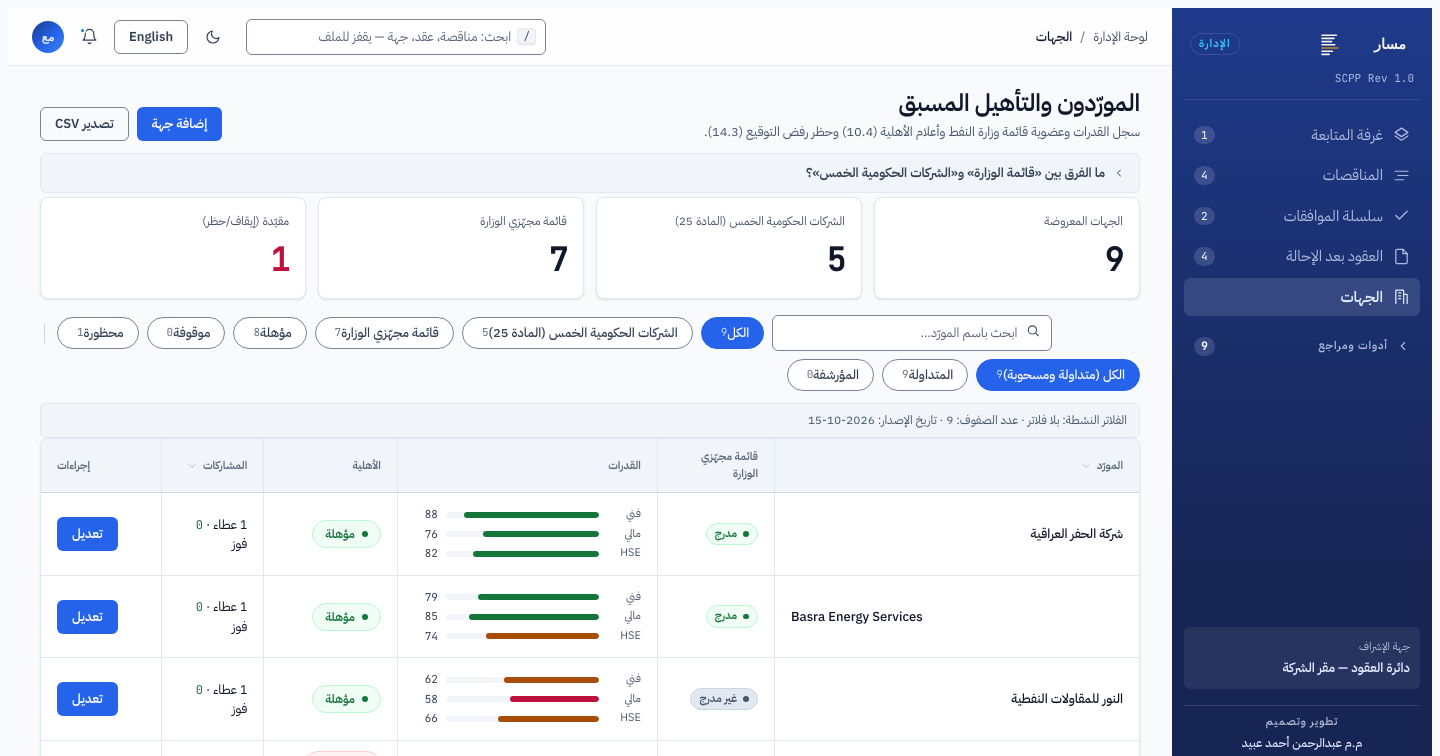
#/admin/fields and #/admin/entities — the archive as a URL dimension (request 7) › stamps the entity archive once it REALLY narrows, and dismissing it deletes the parameter
The width and height of the screenshot is (1440, 756).
Click the button "المؤرشفة 0": [830, 375] box left=787, top=359, right=874, bottom=391
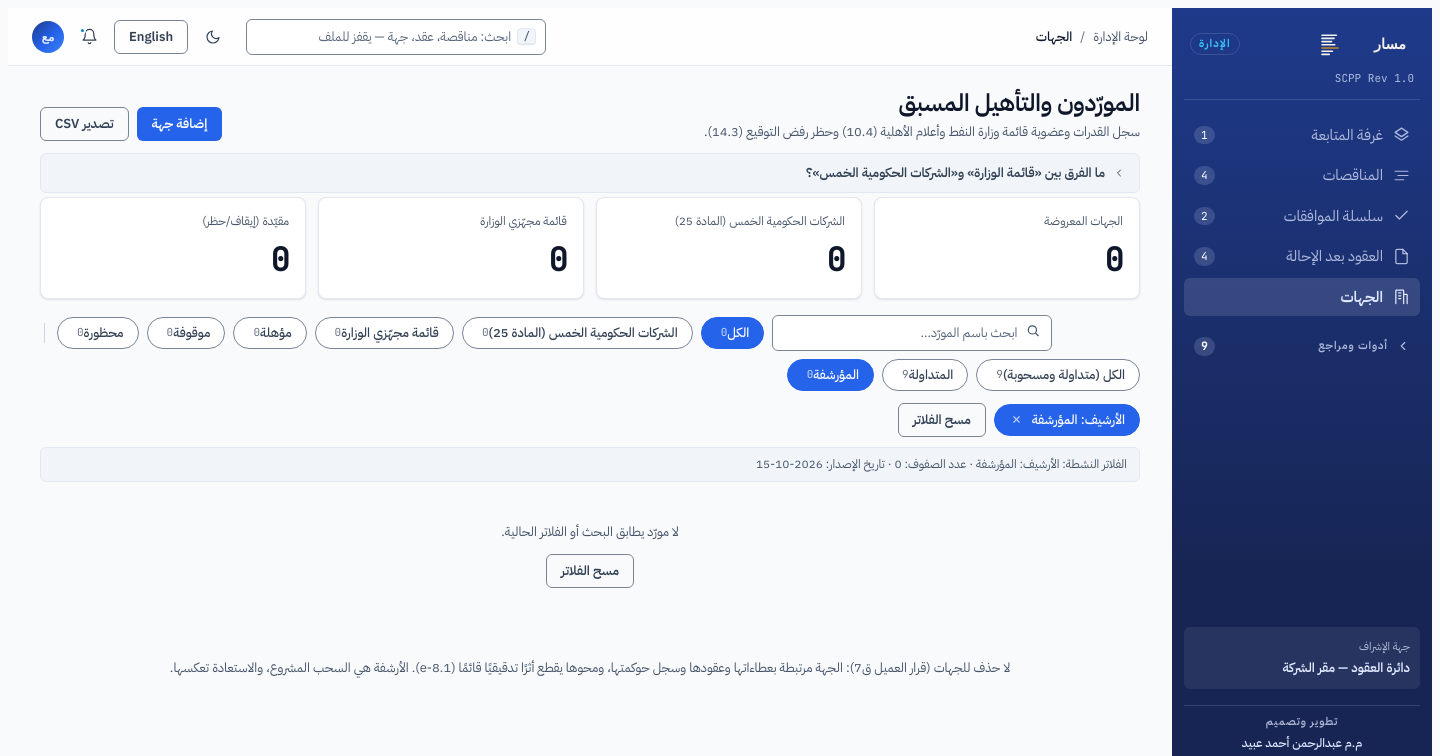
Expected: the text with class "reg-stamp" shows "الأرشيف: المؤرشفة", left=756, top=455, right=1127, bottom=473
Click the button named "أزل المرشّح: الأرشيف: المؤرشفة": [1017, 420] box left=1009, top=412, right=1025, bottom=428
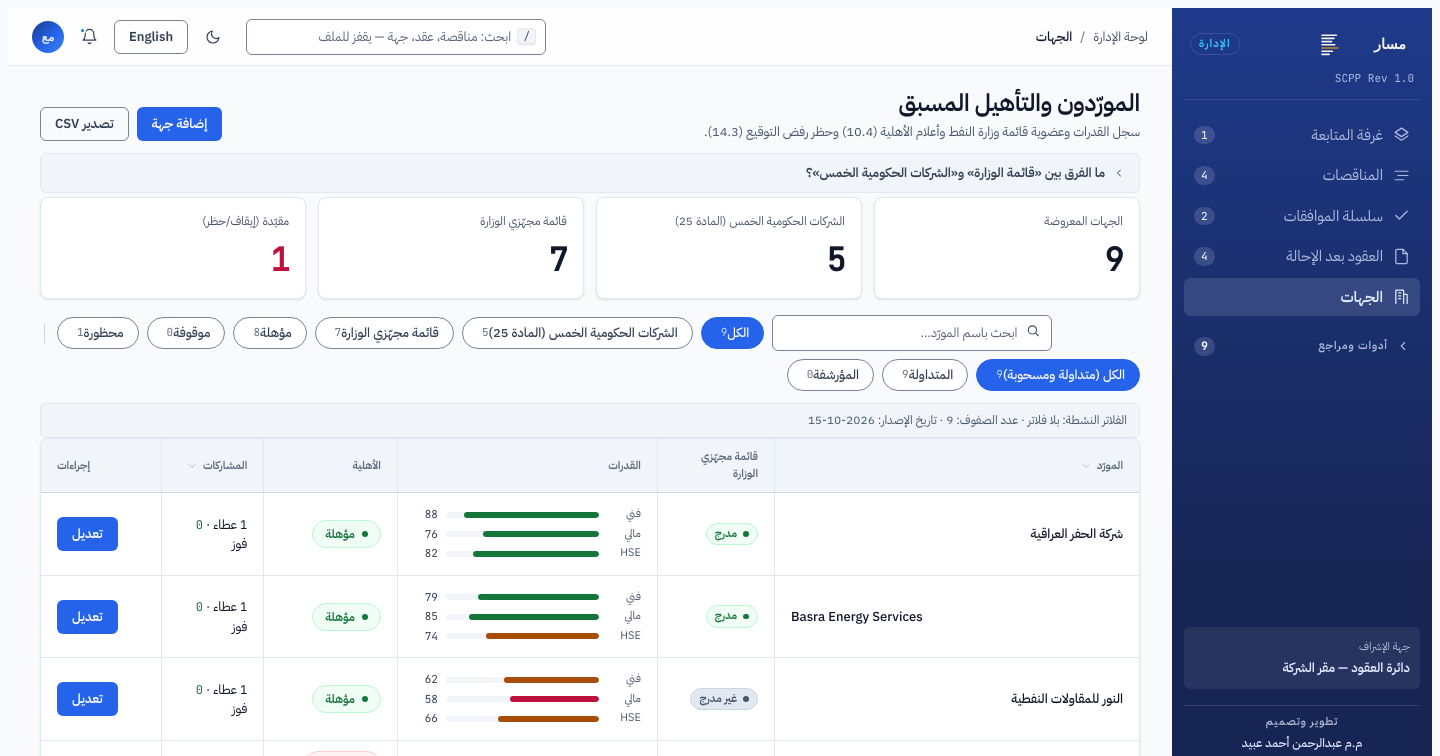
Expected: the text with class "reg-stamp" shows "بلا فلاتر", left=808, top=411, right=1127, bottom=429
